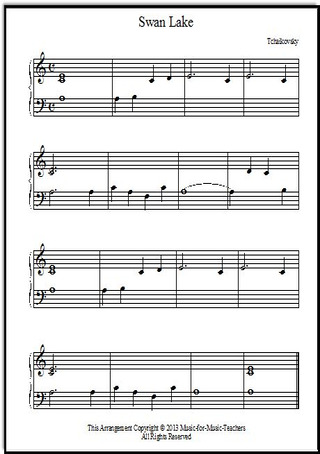Partitura: (23, 11, 307, 445)
